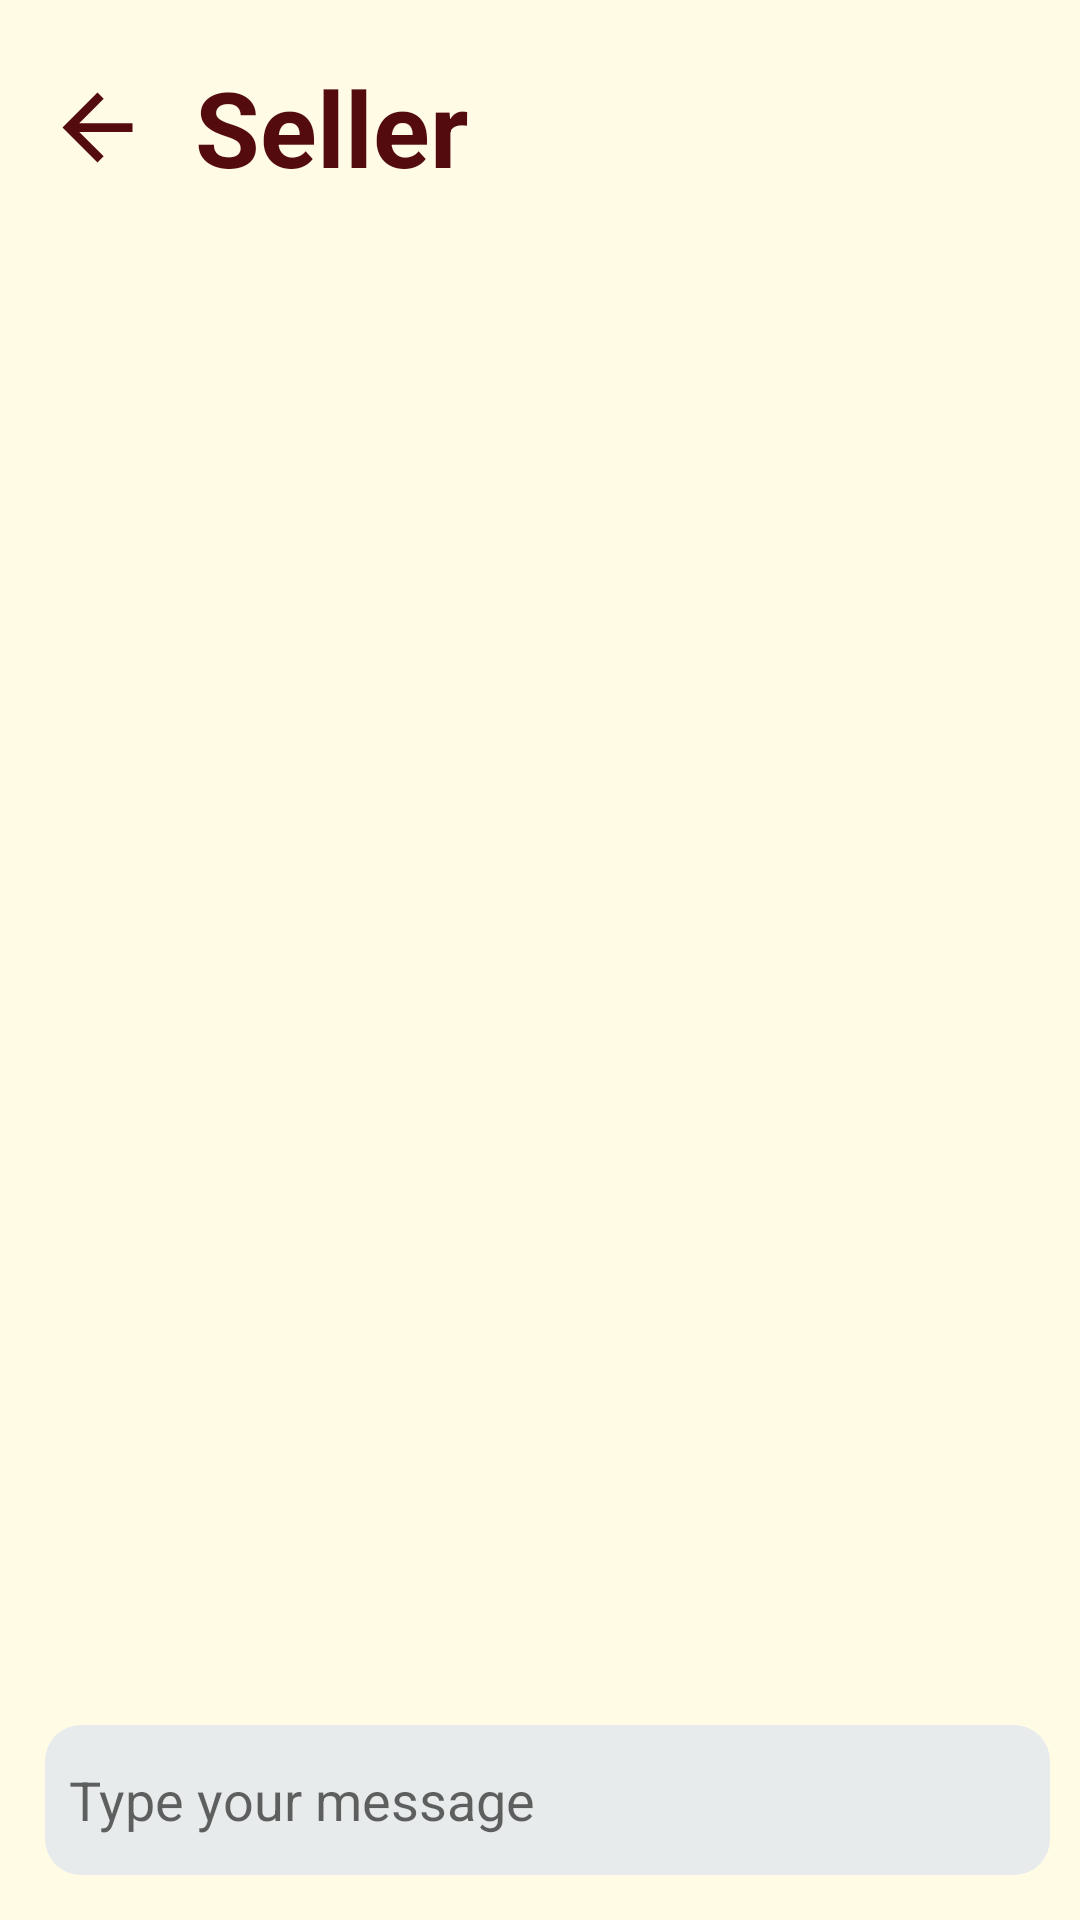

Screen size 1080 x 1920. Icon name, then its center in pixels as point (x, y):
back: point (97, 127)
